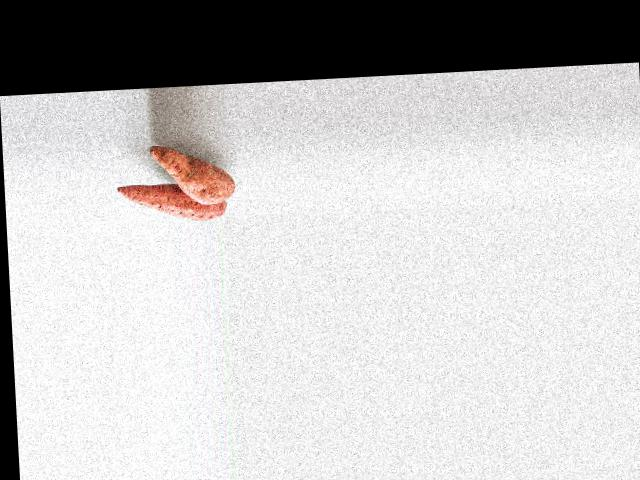sweet_potato: (123, 180, 226, 223)
